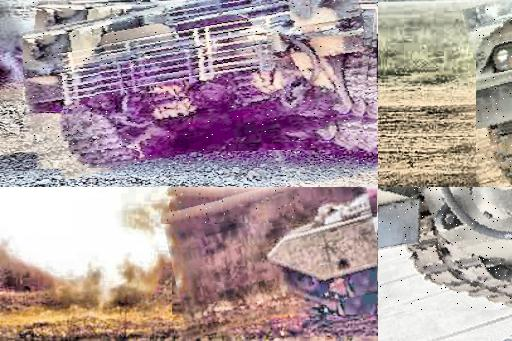tanks: (24, 1, 373, 169), (379, 188, 512, 303), (271, 188, 379, 304), (162, 188, 301, 225), (307, 188, 322, 192)
